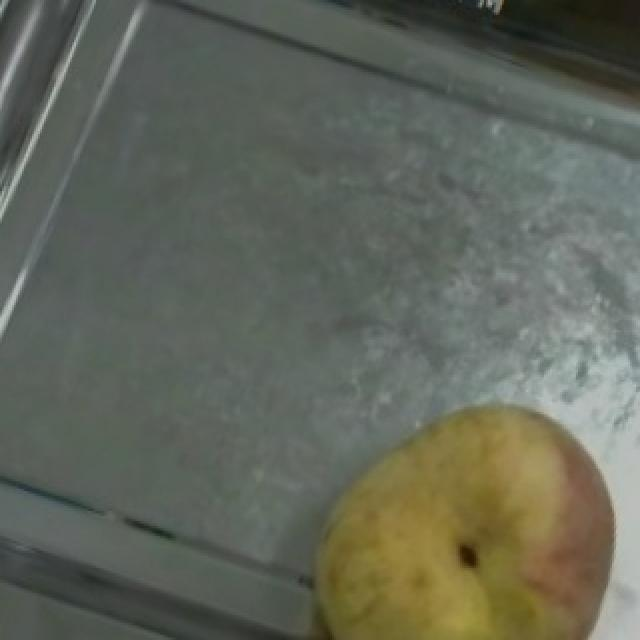Fruit: (270, 372, 618, 640)
